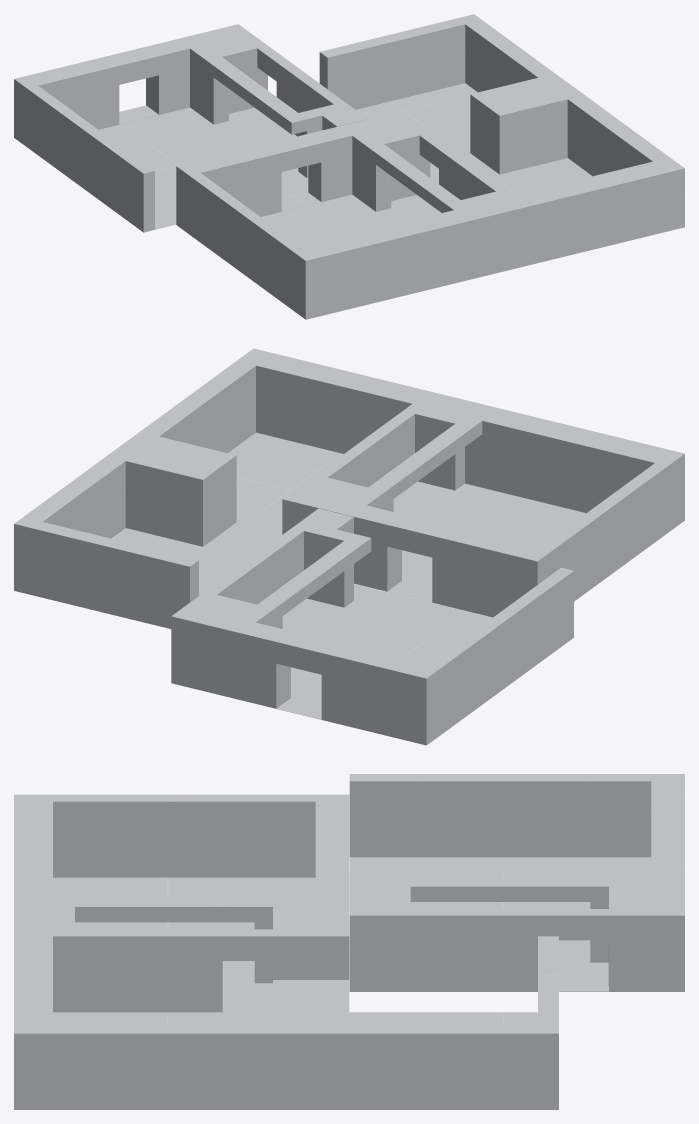
The model's file is Whitebox-Env.glb.
3 views of the same model, one above another, from view 1: azimuth 30°, elevation 25°; view 2: azimuth 150°, elevation 25°; view 3: azimuth 270°, elevation 25° (orthographic). The views are drawn at different scales.
Parts seen in each view (by area): view 1: Whitebox; view 2: Whitebox; view 3: Whitebox.
Part boxes in pixels (left/top/right/bottom): Whitebox: left=14, top=14, right=684, bottom=319; Whitebox: left=14, top=348, right=684, bottom=745; Whitebox: left=14, top=774, right=684, bottom=1109.
Size of the model in its own units: 29.27 by 4 by 31.97.
1 material, 1 textured.
